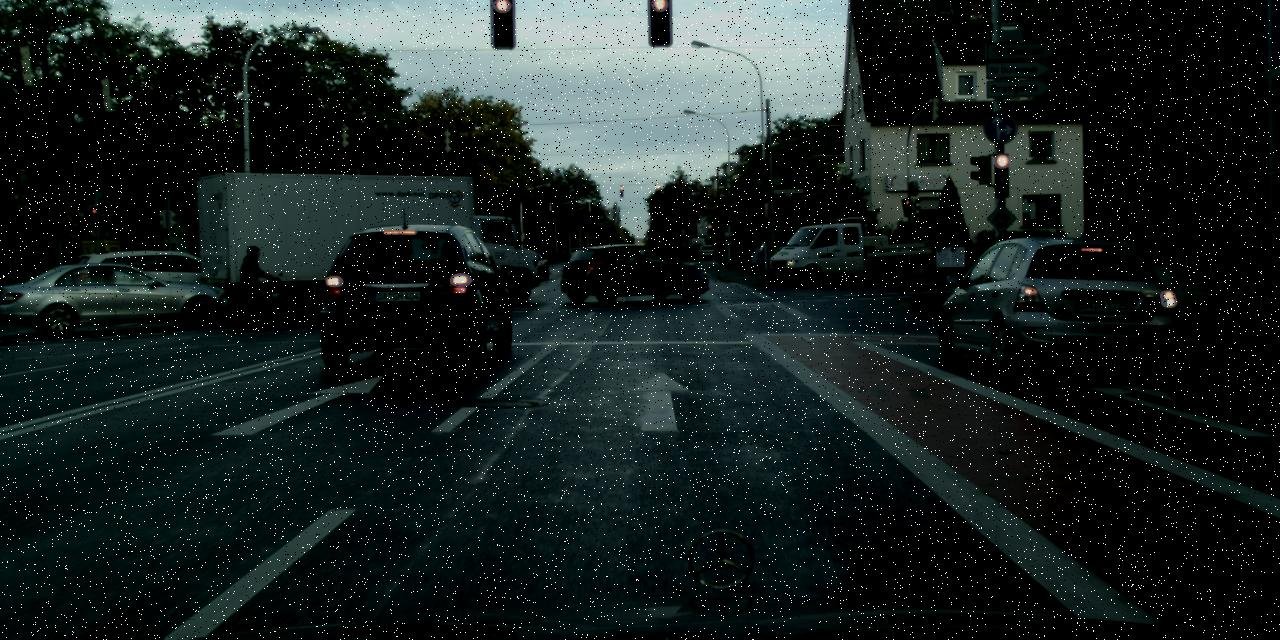ped: (242, 244, 270, 314)
